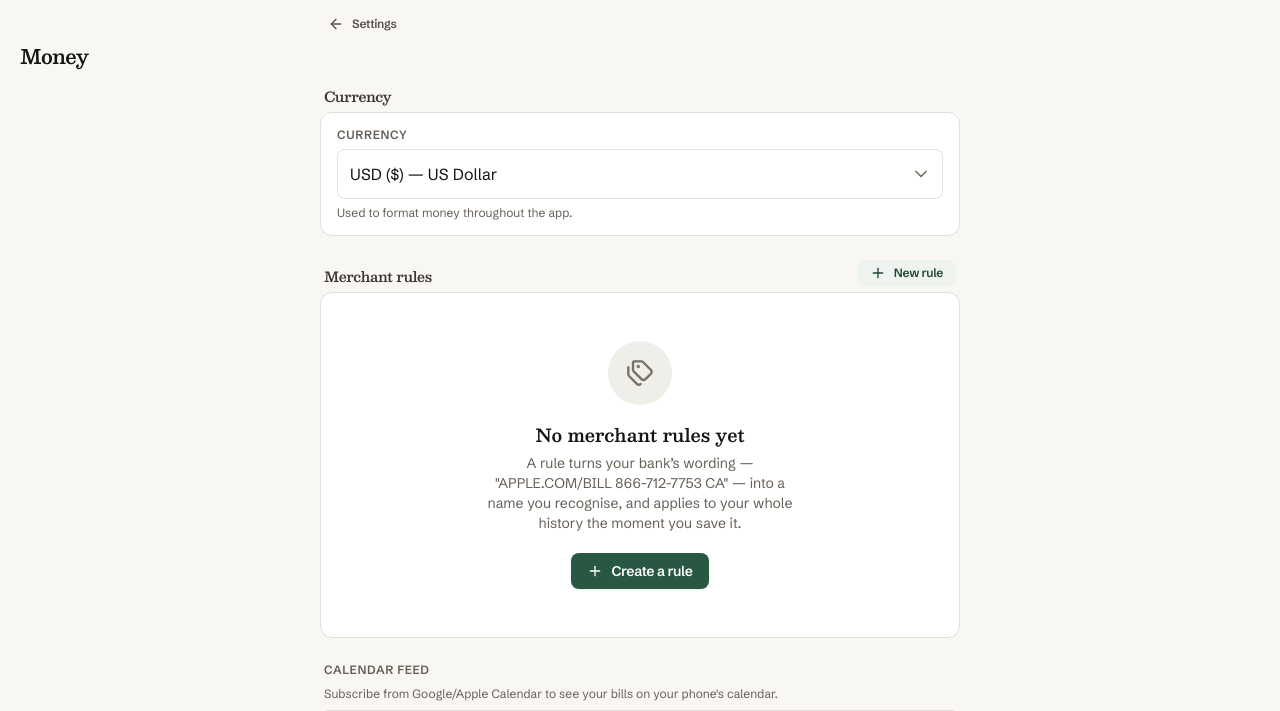
Settings index + sub-screens › preserves unrelated query params when backing out of a deep link
Expected: the heading "Money" is shown, [20,42,88,70]
Click the button with aria-label "back to settings": (362, 24) [316,12,409,36]
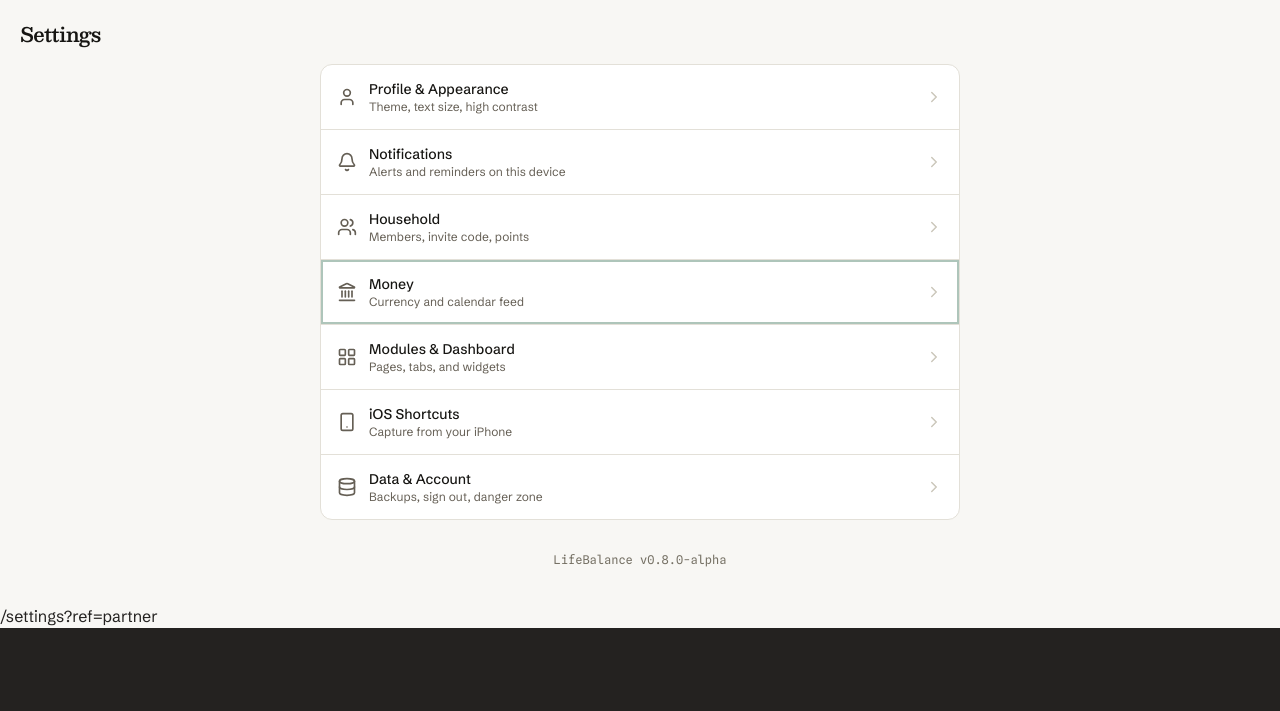
Expected: the text with test id "location-probe" shows "ref=partner", [0,606,158,626]
Result: the navigation bar named "settings sections" is shown at [320,64,960,520]
